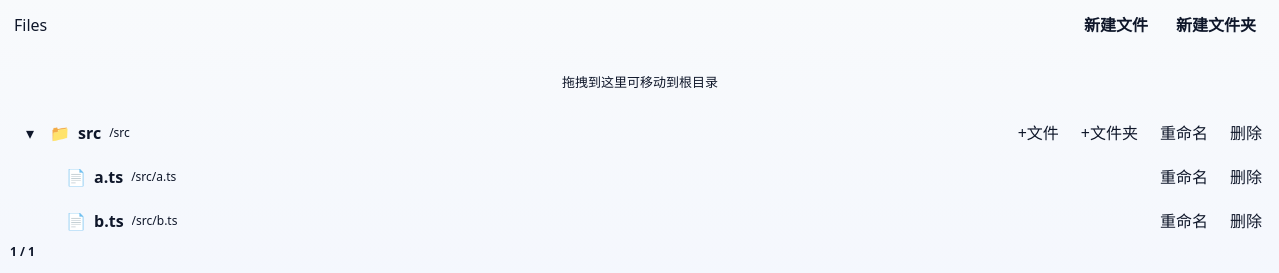
FileTree › toggles folder descendants visibility when collapsing and expanding
This screenshot has width=1279, height=273.
Click the button with test id "toggle-folder-folder-src". click: (30, 132)
box: x1=18 y1=120 x2=42 y2=144
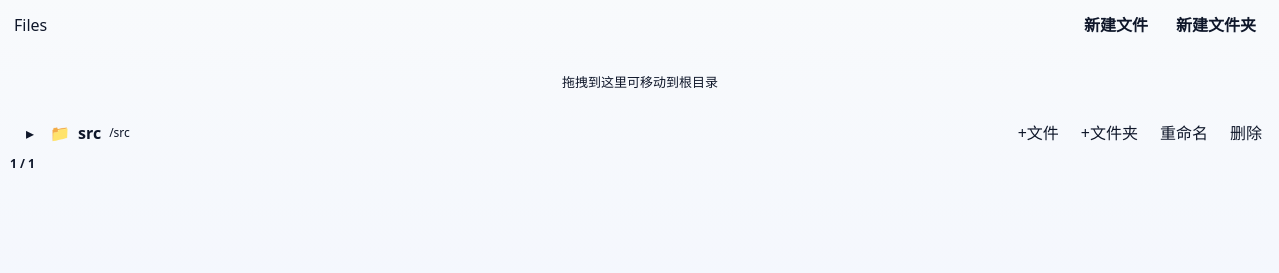
Expected: the text "/src/a.ts" is gone
Expected: the text "/src/b.ts" is gone
Click the button with test id "toggle-folder-folder-src". click: (30, 132)
box: x1=18 y1=120 x2=42 y2=144
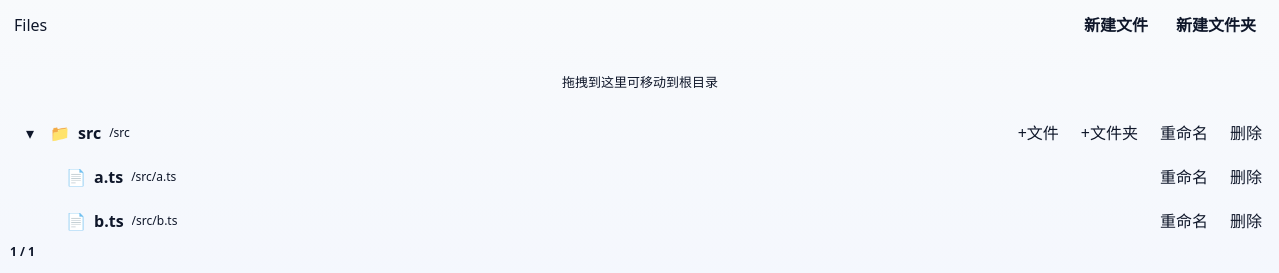
Expected: the text "/src/a.ts" is shown, x1=131 y1=168 x2=176 y2=186
Expected: the text "/src/b.ts" is shown, x1=132 y1=212 x2=177 y2=230
